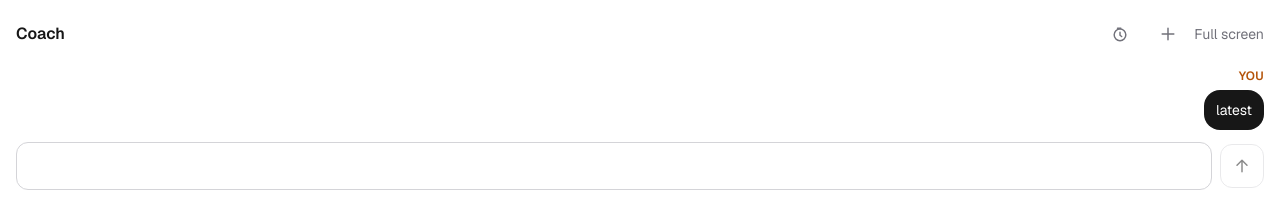
Test: agent chrome › lists saved chats in history with the open one marked
The width and height of the screenshot is (1280, 207).
Click the button named "Chat history" at (1120, 34), box [1098,12,1142,56]
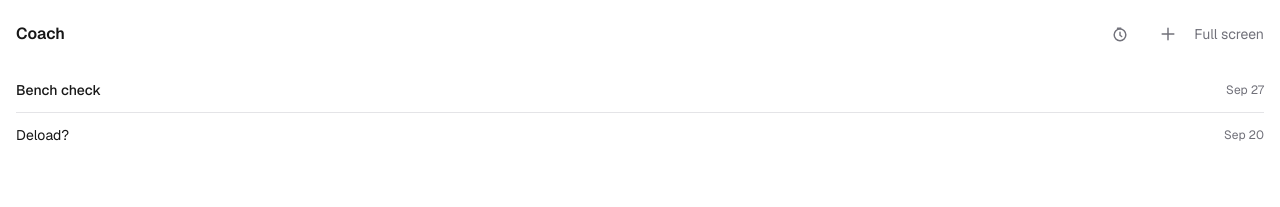
Now the form is gone
